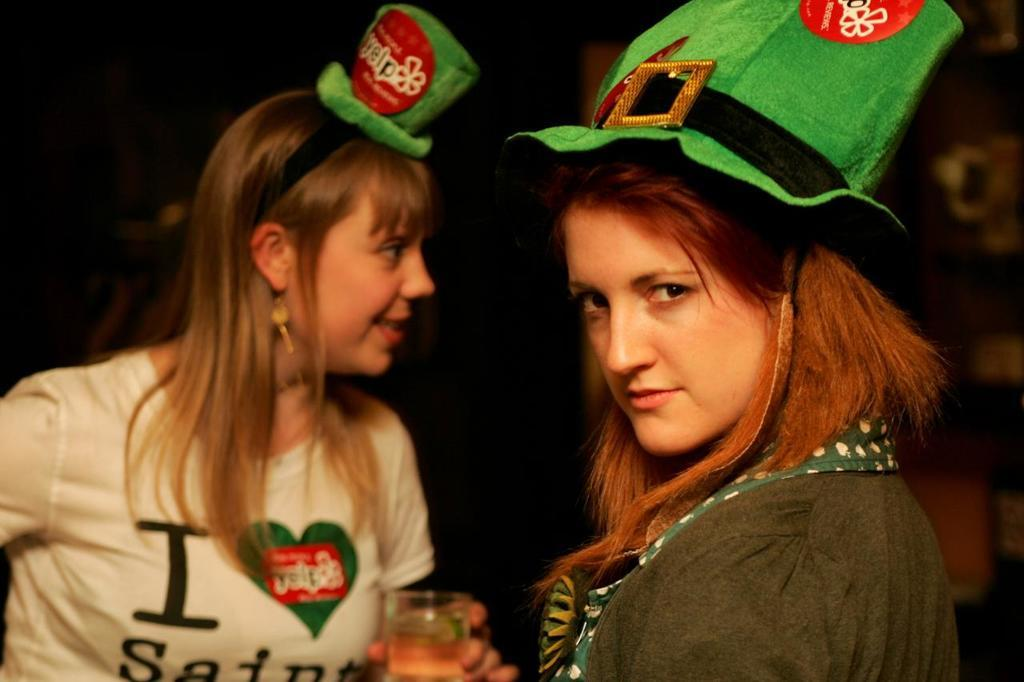Hat: (506, 0, 968, 231), (252, 0, 476, 223)
